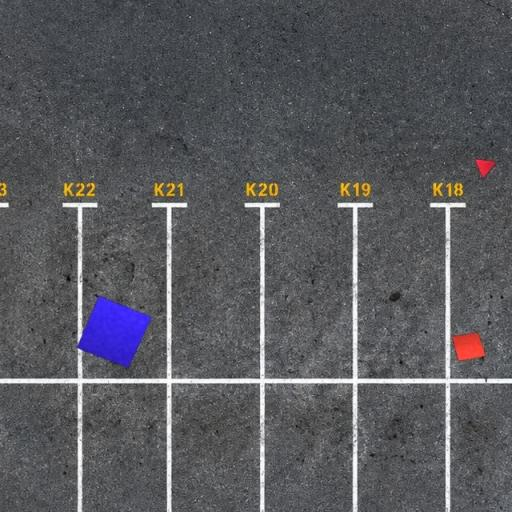BLUE_SQUARE: (76, 295, 153, 369)
RED_SQUARE: (452, 331, 486, 362)
